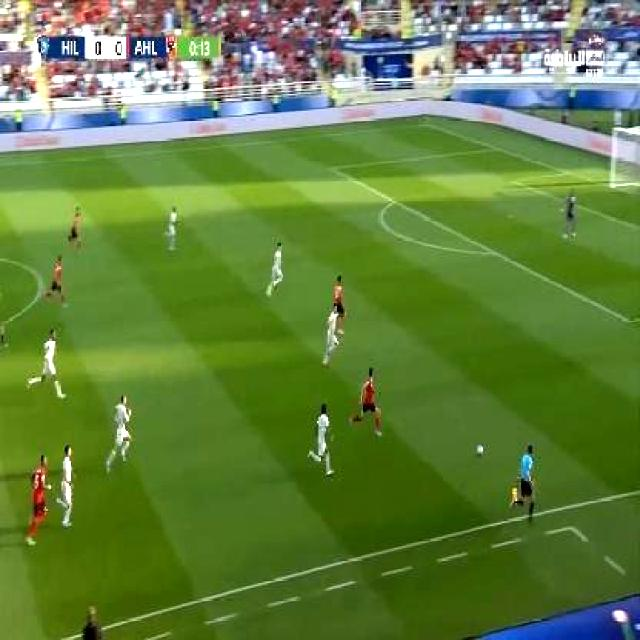bigarea_bottom_inner: (625, 311, 637, 329)
bigarea_top_inner: (323, 158, 343, 177)
bigarea_top_outter: (485, 142, 509, 156)
bottom_arc_area_intersection: (484, 245, 502, 260)
corner: (418, 120, 429, 128)
smallarea_top_inner: (503, 172, 523, 190)
top_arc_area_intersection: (383, 192, 405, 212)
